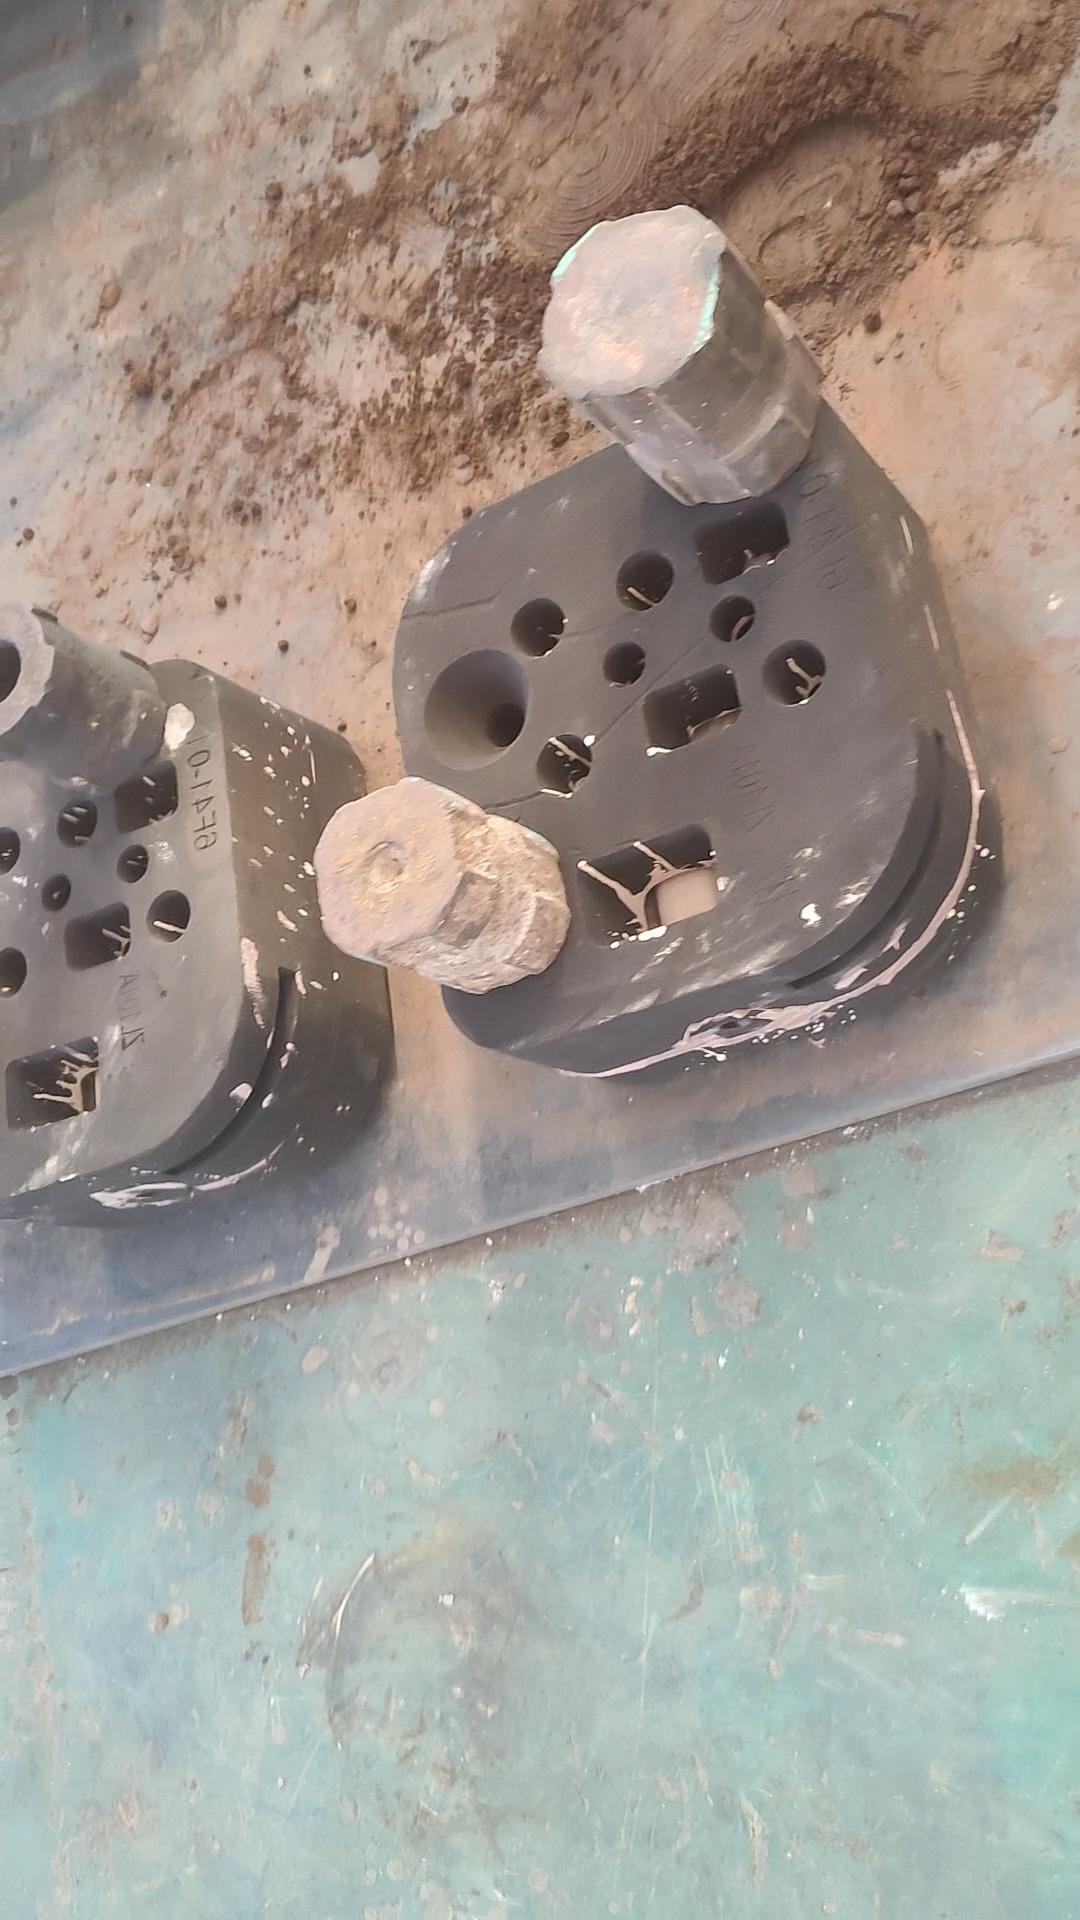pouring hole: (423, 650, 529, 765)
